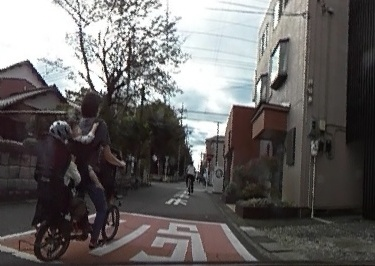person: (75, 89, 110, 245), (185, 159, 194, 190)
